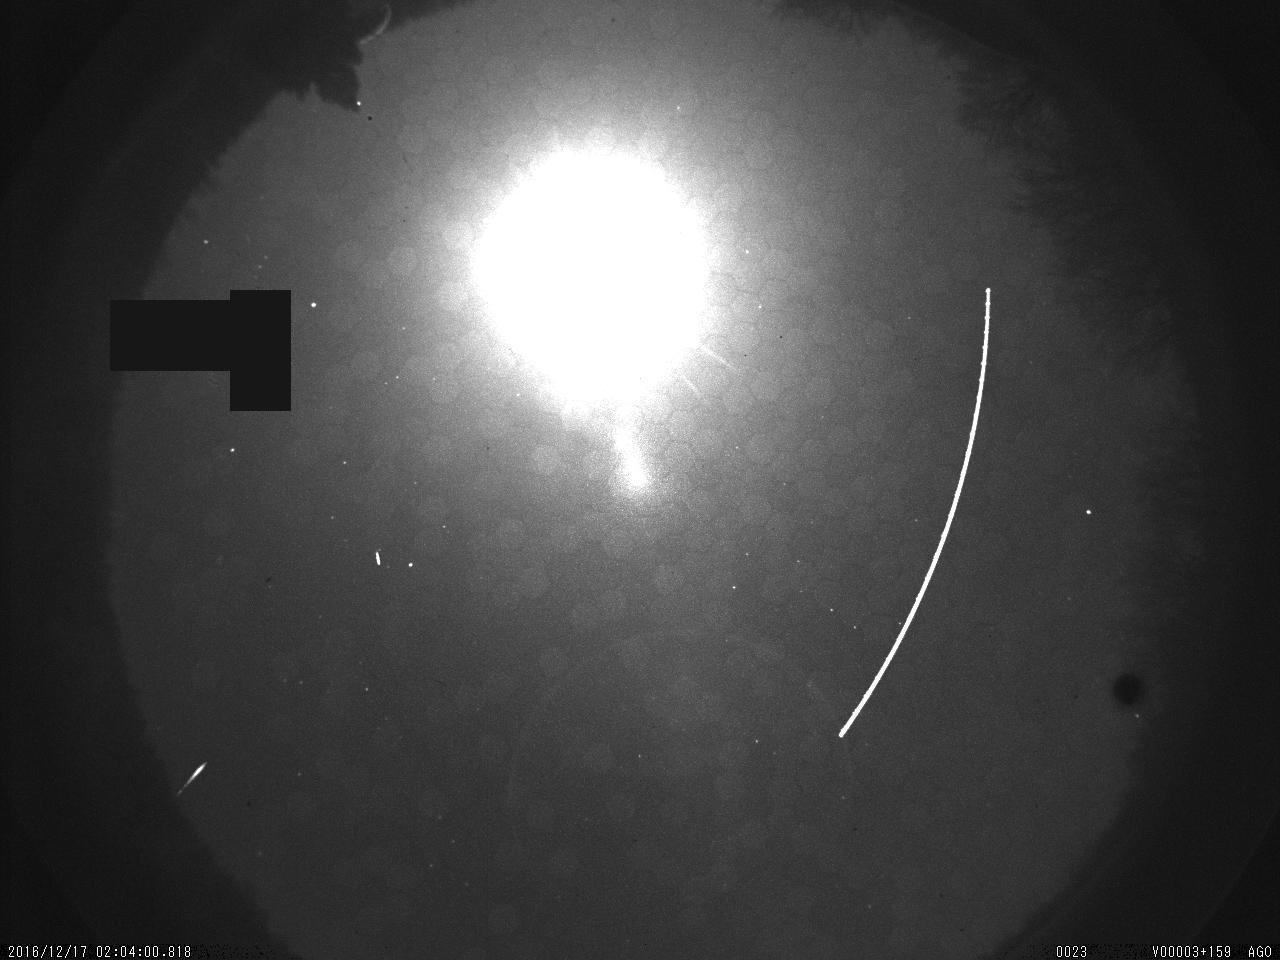Meteor: (833, 282, 1004, 757), (174, 758, 211, 798), (371, 546, 384, 569)
